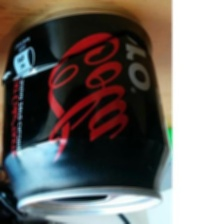can: (0, 8, 172, 218)
